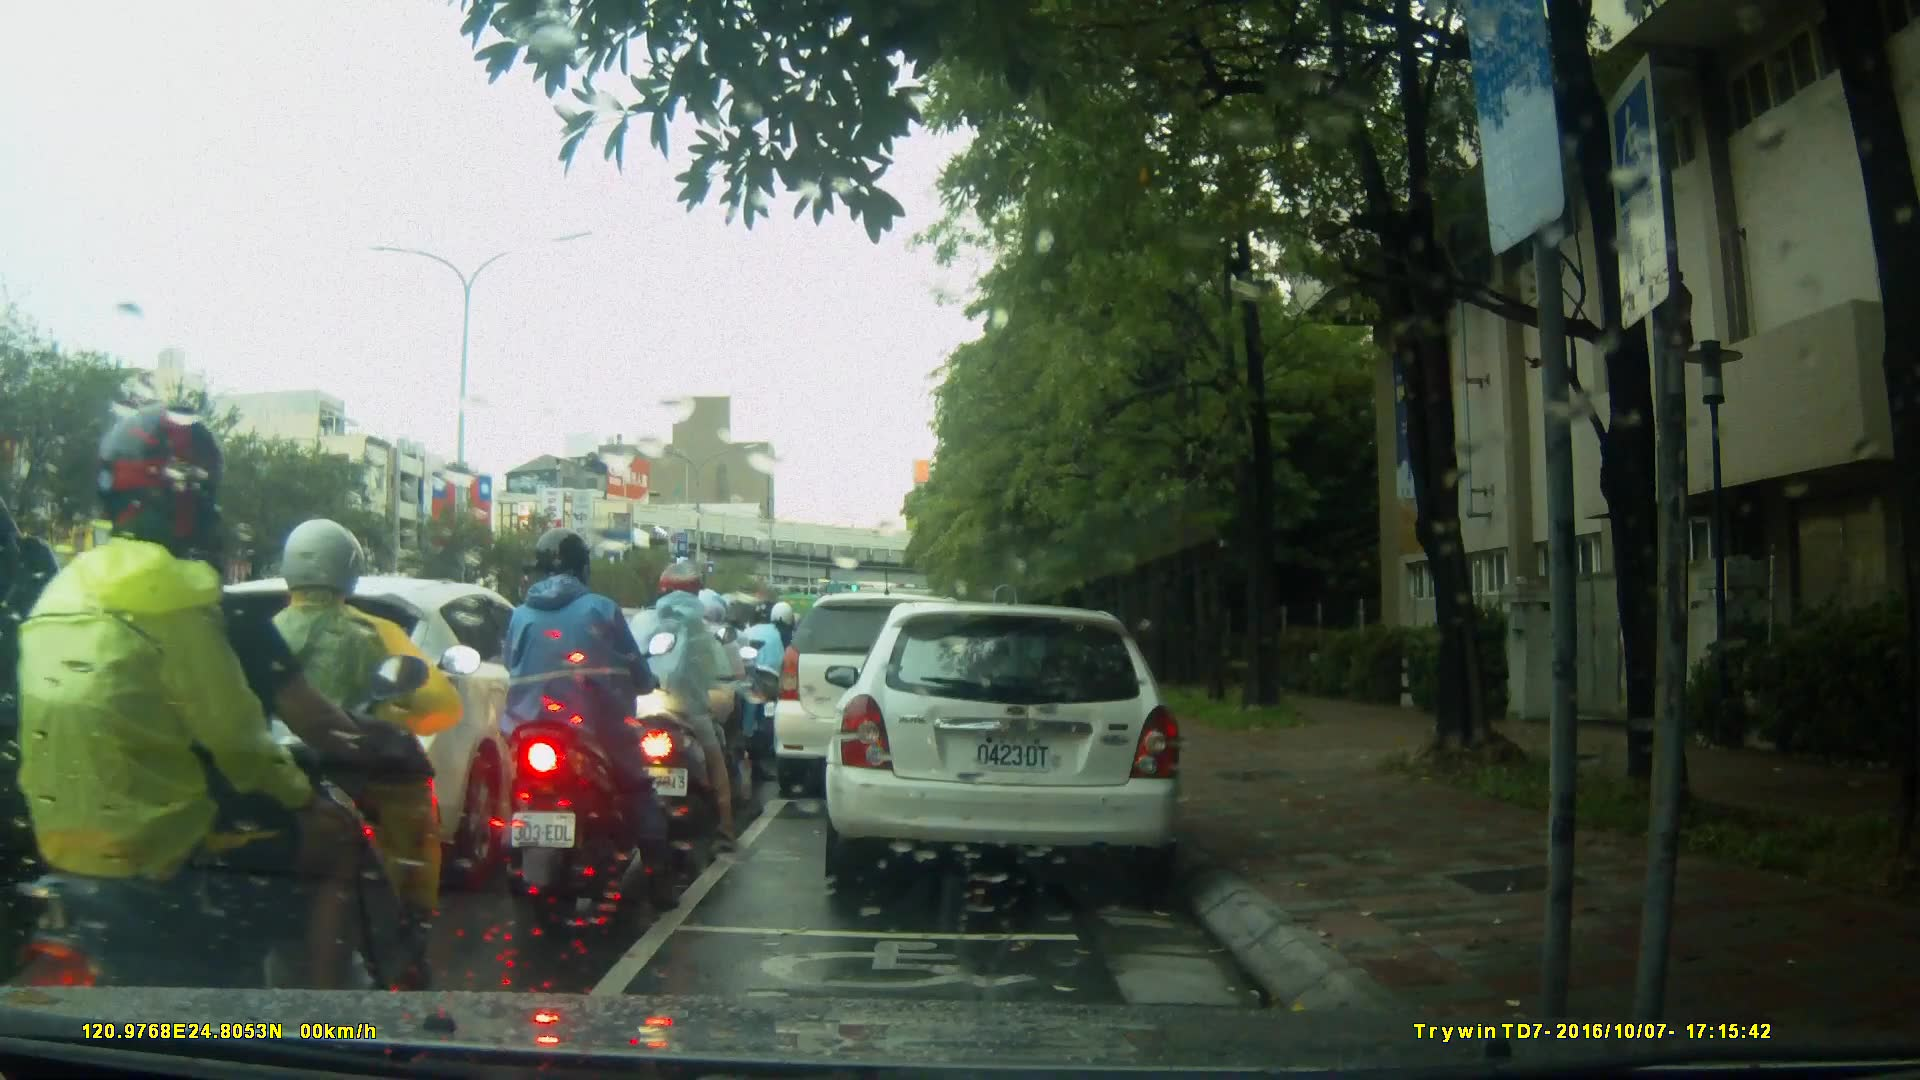rider: (26, 396, 413, 1058), (236, 522, 476, 1003), (498, 528, 682, 911), (612, 560, 736, 844), (655, 585, 761, 823), (736, 598, 796, 752)
vehicle: (172, 575, 602, 862), (822, 604, 1188, 883), (774, 595, 995, 802)
